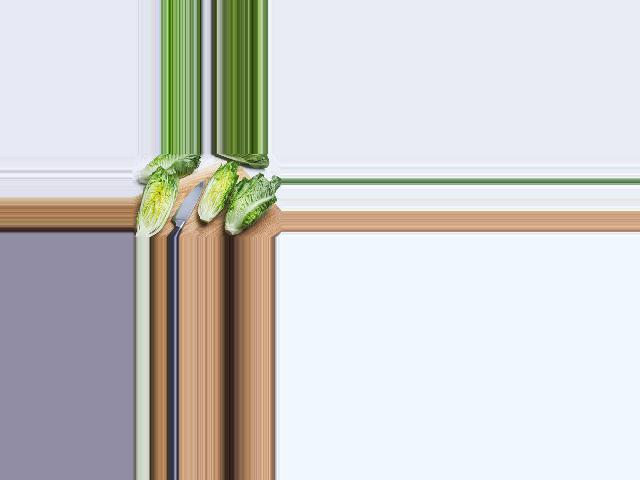lettuce: (138, 156, 199, 183)
